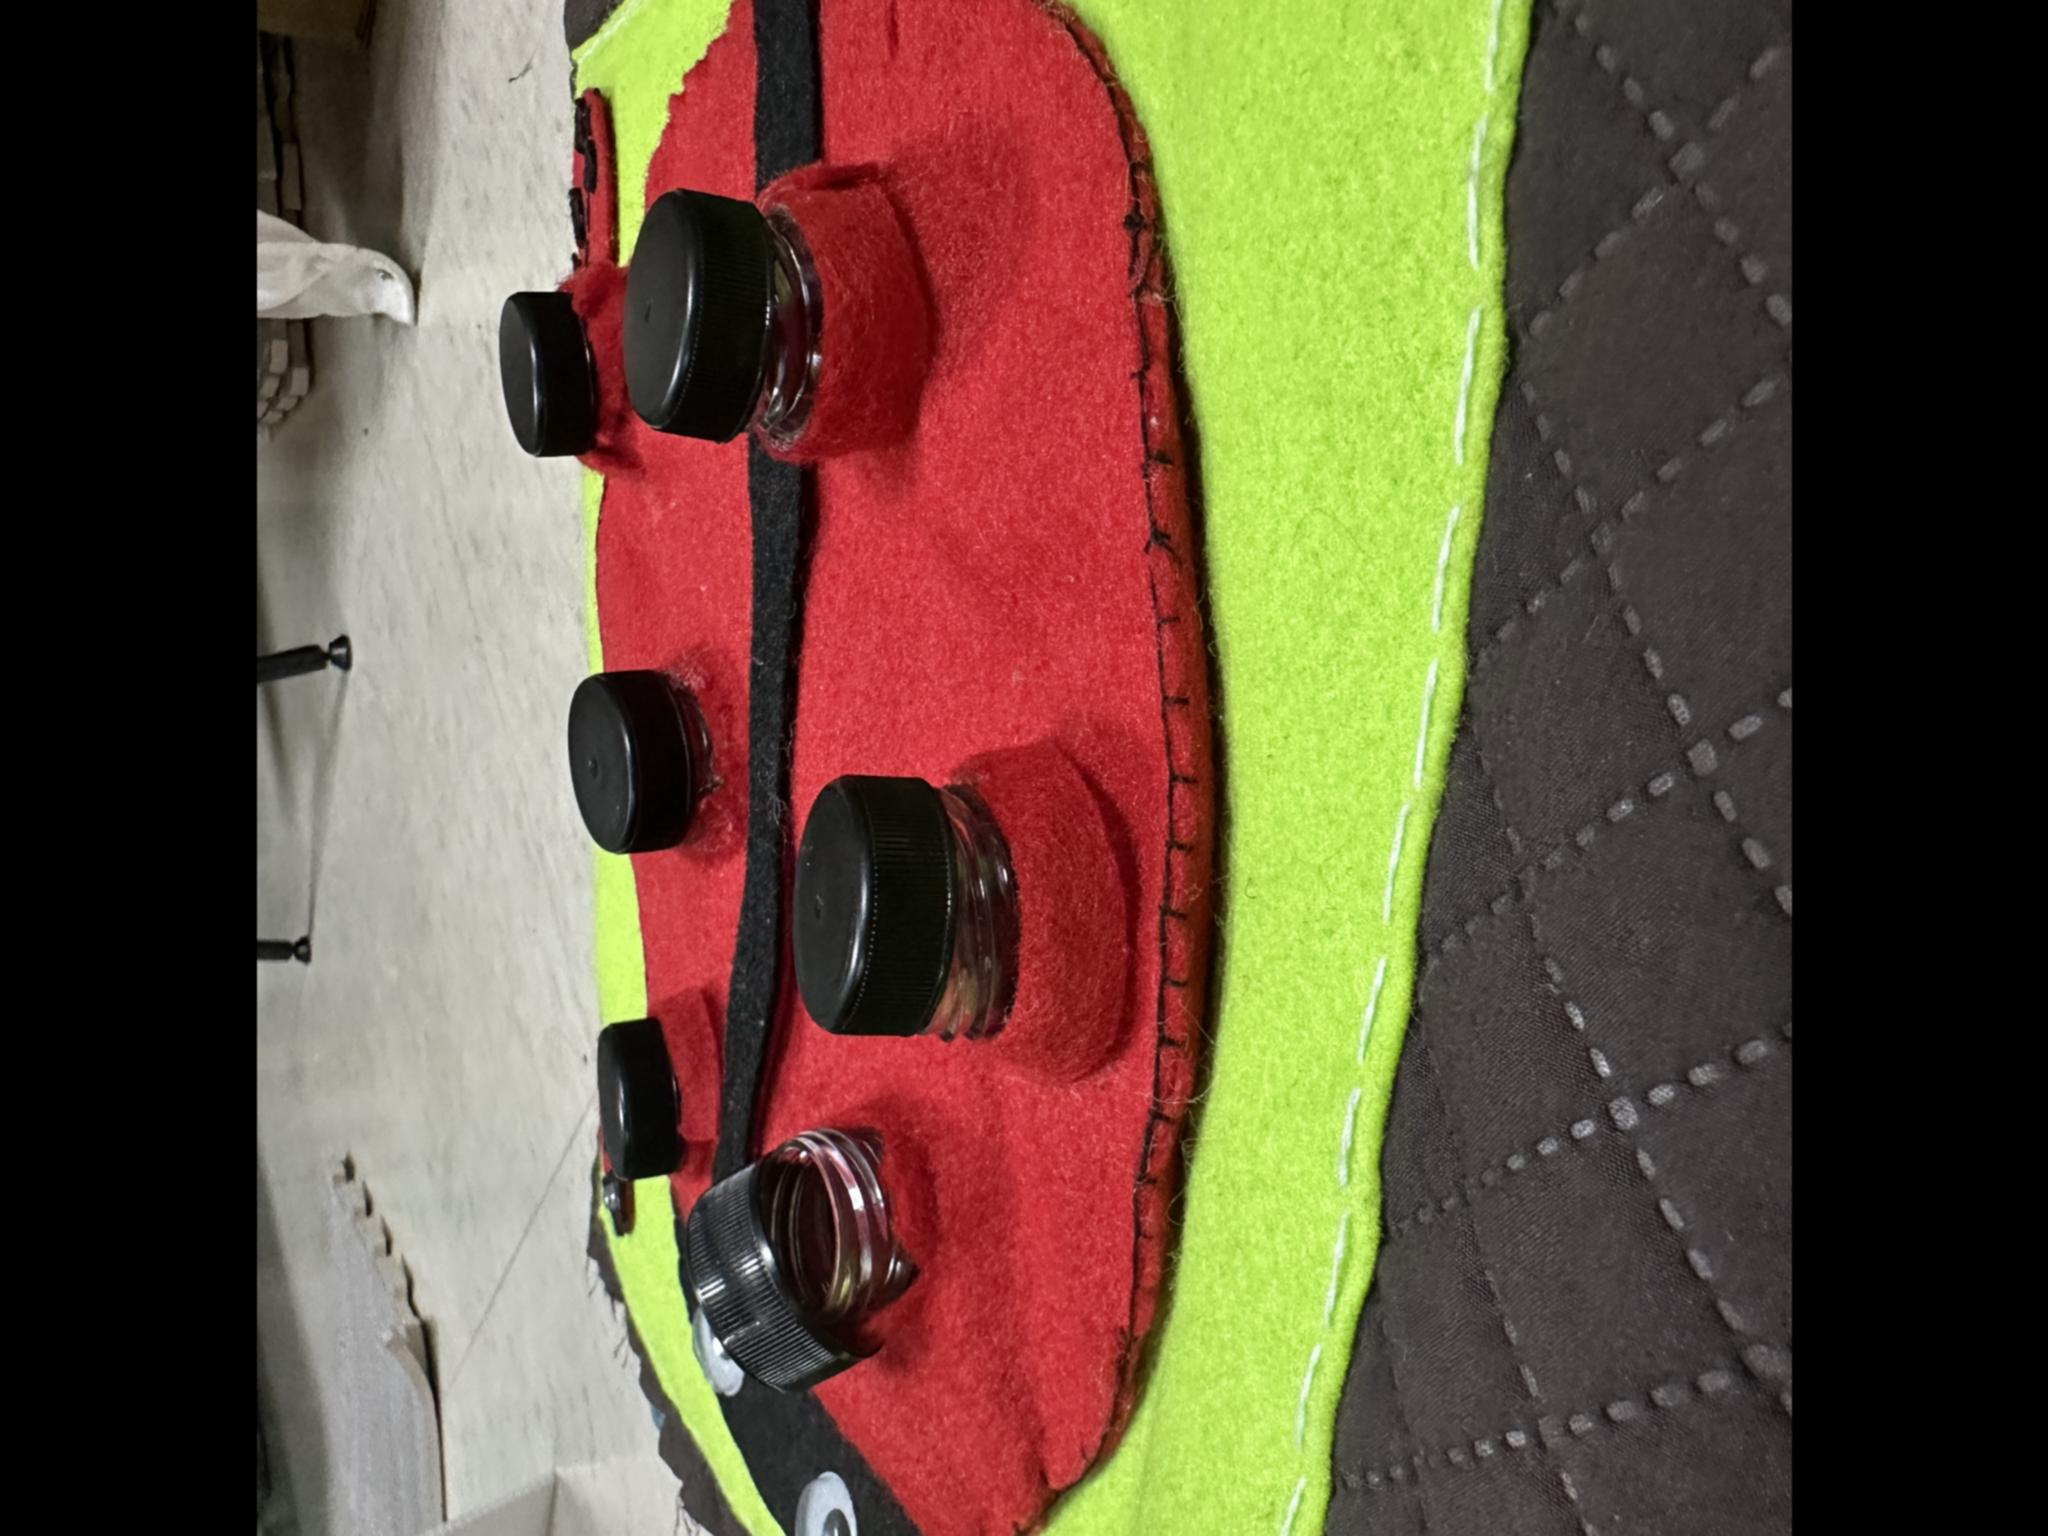cap_ng: (764, 729, 1143, 1087), (622, 152, 939, 499), (671, 1113, 929, 1418)
cap_ok: (466, 252, 642, 529), (556, 629, 751, 870), (572, 952, 724, 1199)
